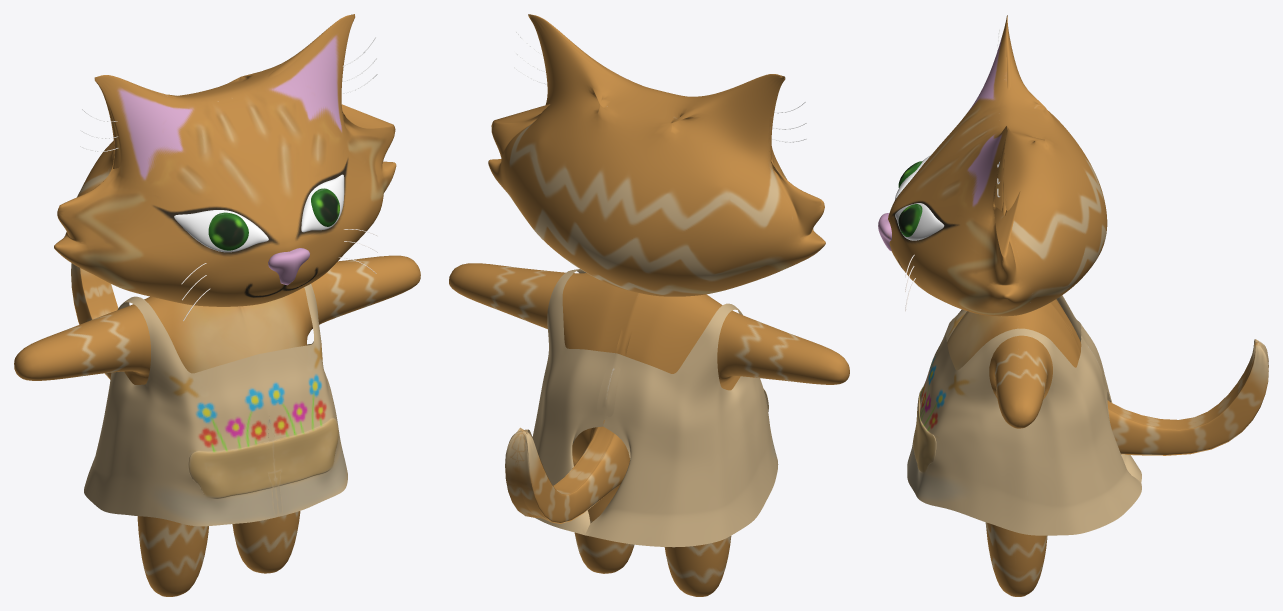
Rendered from Blossom Cottage Player.fbx.
The picture shows the model from 3 angles, left to right: view 1: azimuth 30°, elevation 25°; view 2: azimuth 150°, elevation 25°; view 3: azimuth 270°, elevation 25°; orthographic projection. The views are drawn at different scales.
Visible parts, largest first — view 1: Head, Clothes, Body, Eye.001, Nose; view 2: Head, Clothes, Body; view 3: Head, Clothes, Body, Eye.001.
Boxes of the visible parts, <box> form: Head: <box>54,14,396,306</box>; Clothes: <box>84,284,347,526</box>; Body: <box>14,255,420,596</box>; Eye.001: <box>174,174,344,252</box>; Nose: <box>268,248,309,285</box>; Head: <box>488,14,825,296</box>; Clothes: <box>532,269,778,547</box>; Body: <box>449,263,849,596</box>; Head: <box>888,15,1107,316</box>; Clothes: <box>907,295,1141,535</box>; Body: <box>947,299,1268,596</box>; Eye.001: <box>895,155,944,240</box>.
Bounding box in the file's own units: 238 × 306 × 217.
2 materials, 1 textured.
